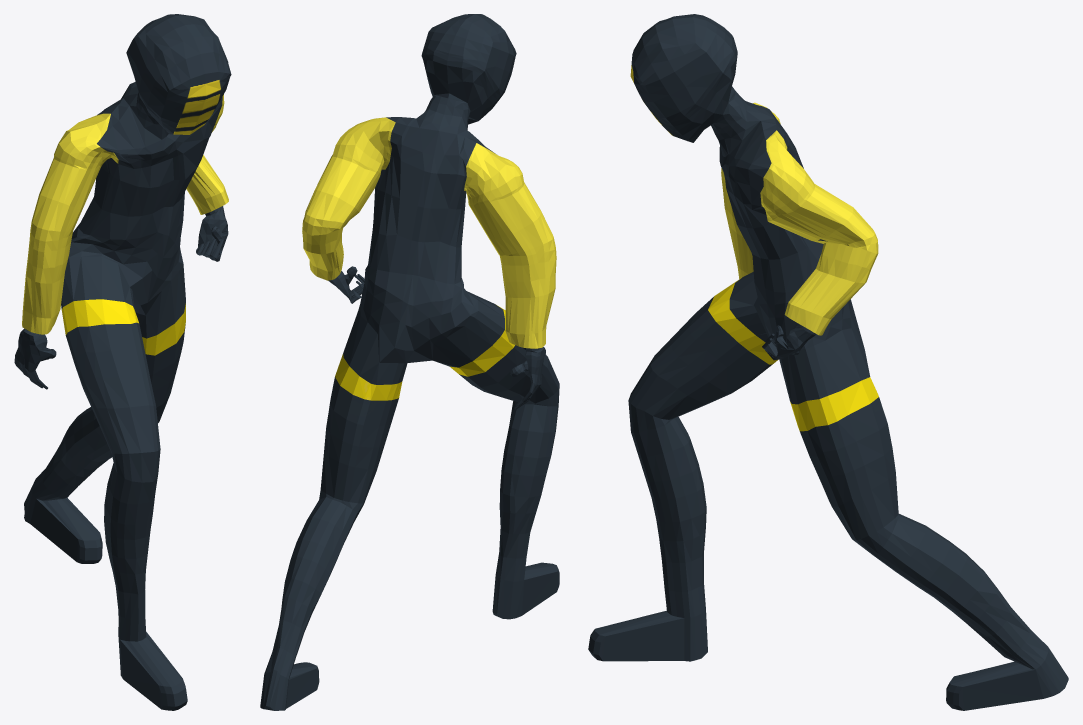
The model's file is Sentry_Stun_Recover_000001.obj.
The picture shows the model from 3 angles, left to right: view 1: azimuth 30°, elevation 25°; view 2: azimuth 150°, elevation 25°; view 3: azimuth 270°, elevation 25°; orthographic projection. The views are drawn at different scales.
Visible parts, largest first — view 1: Cube; view 2: Cube; view 3: Cube.
Part boxes in pixels (box(x1,y1,x2,y2)): Cube: box(14, 14, 231, 710); Cube: box(260, 14, 559, 710); Cube: box(588, 14, 1068, 710).
Size of the model in its own units: 1.27 by 3.41 by 2.23.
